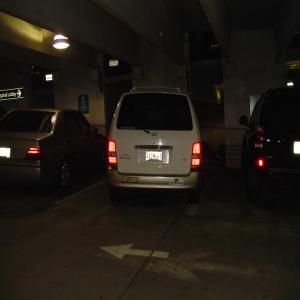Vehicle-registration-plate: (145, 152, 164, 162), (1, 147, 12, 159)
